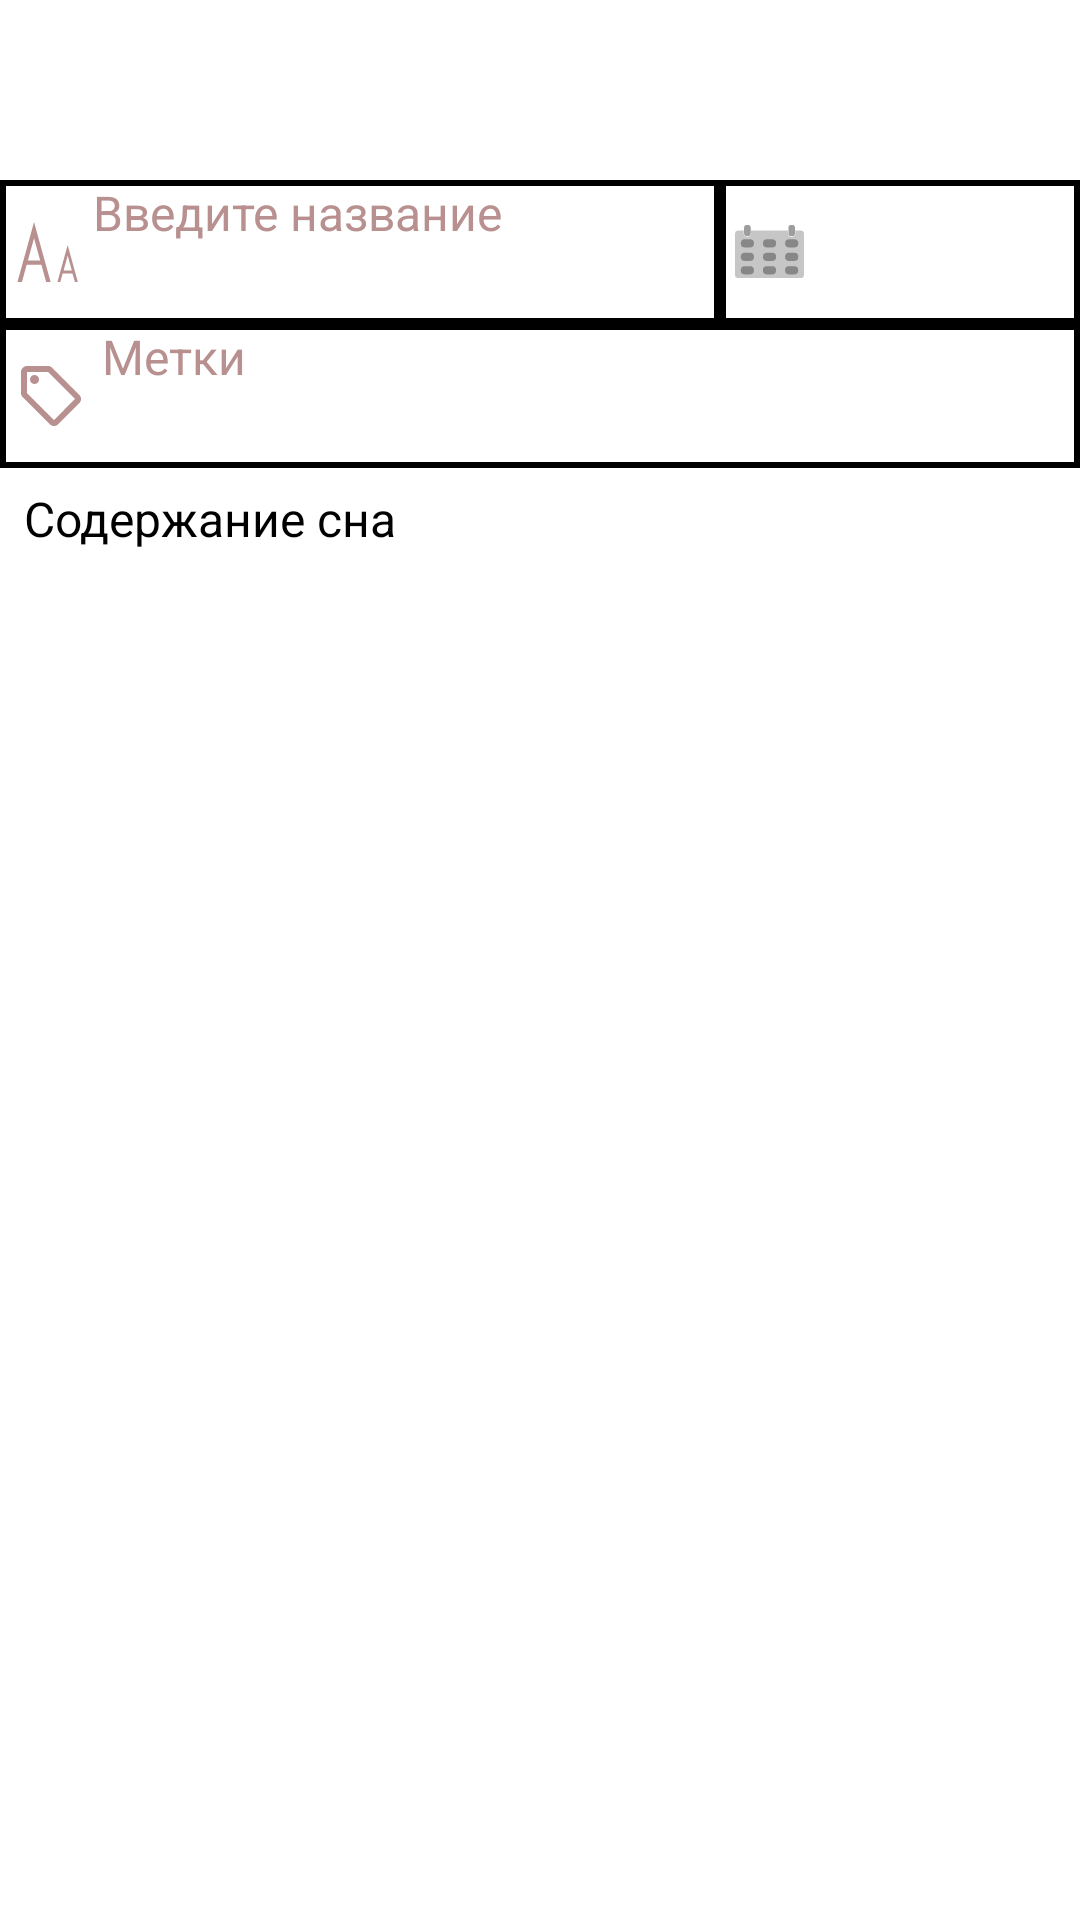

Screen size 1080px x 1920px. Icon name, then its box in pixels as box=[x1, y1, x2, y2]:
calendar: box=[735, 225, 804, 278]
label: box=[21, 366, 81, 426]
